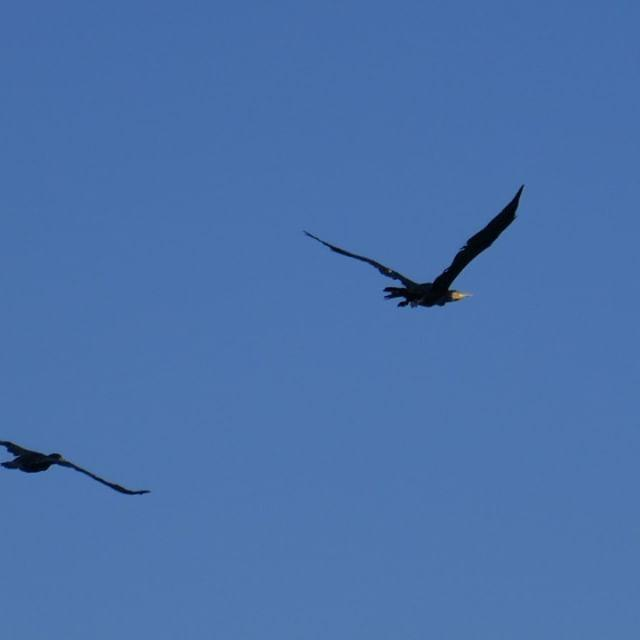bird: (291, 174, 546, 318), (0, 430, 159, 498)
